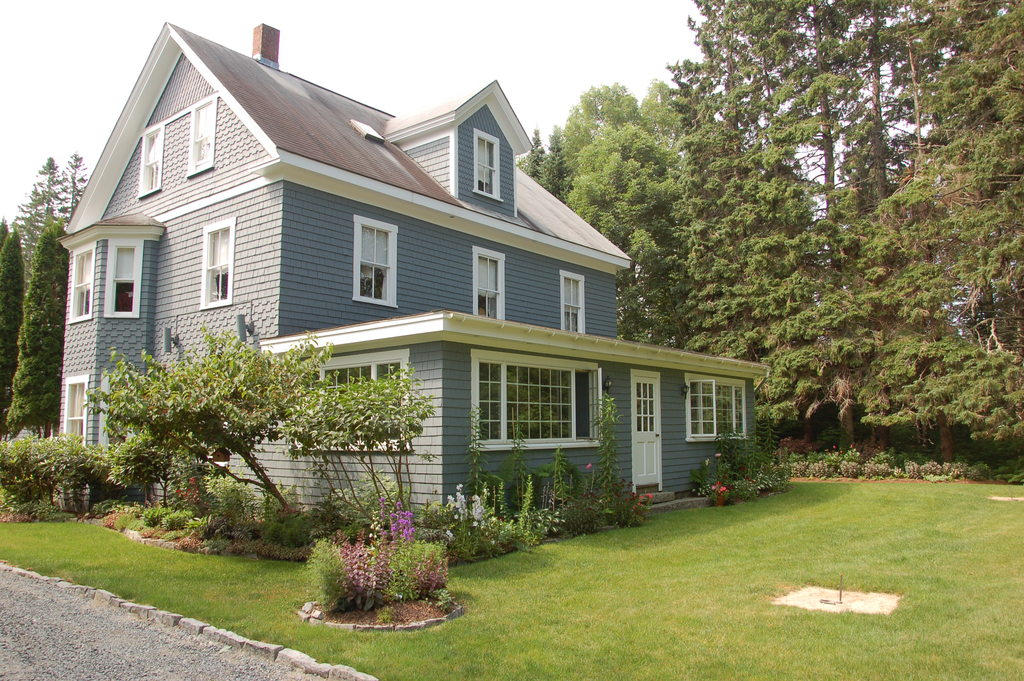Tree: (0, 0, 1024, 465)
